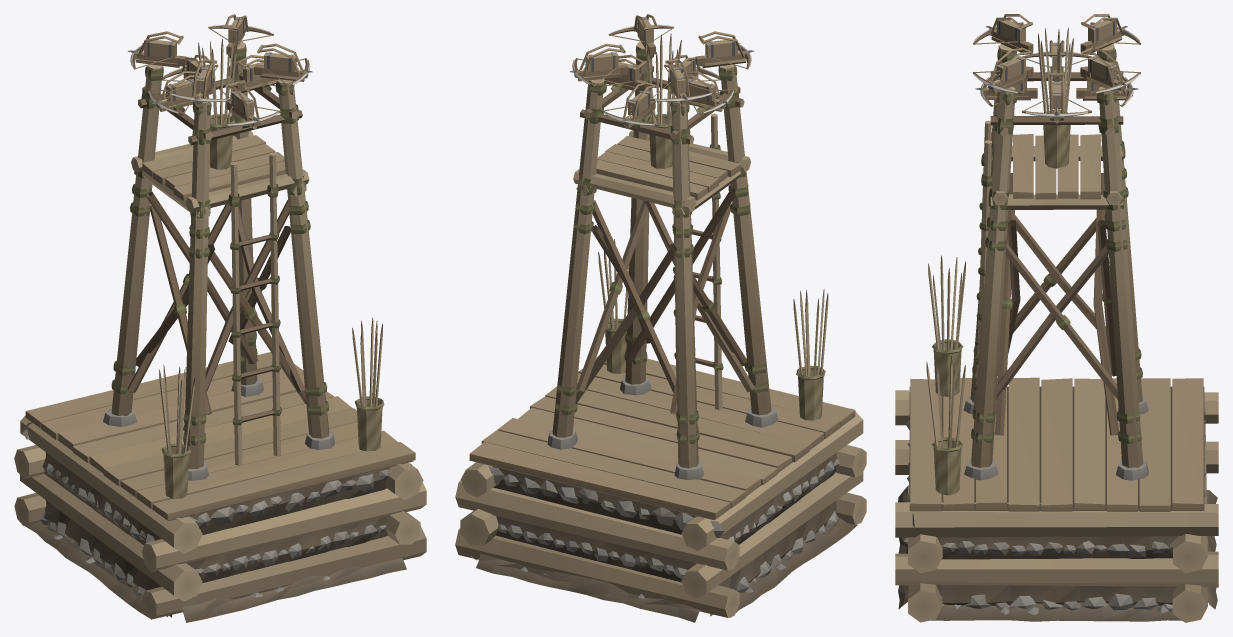
The model's file is bow_tower_repeater_a.glb.
3 renders of one model, left to right at view 1: azimuth 30°, elevation 25°; view 2: azimuth 150°, elevation 25°; view 3: azimuth 270°, elevation 25°, orthographic. The views are drawn at different scales.
Visible parts, largest first — view 1: Base, Store3, Store2, Quiver, Bow3, Bow7, Bow4, Bow6, Bow5, Bow1, Bow2; view 2: Base, Store2, Quiver, Store3, Bow1, Bow5, Bow0, Bow6, Bow7, Bow3, Bow2; view 3: Base, Store2, Store3, Quiver, Bow1, Bow3, Bow7, Bow5, Bow2, Bow6, Bow4, Bow0.
Boxes of the visible parts, x1=… form: Base: x1=14, y1=34, x2=426, y2=622; Store3: x1=352, y1=317, x2=384, y2=451; Store2: x1=159, y1=365, x2=194, y2=498; Quiver: x1=198, y1=37, x2=236, y2=169; Bow3: x1=254, y1=43, x2=310, y2=86; Bow7: x1=130, y1=31, x2=186, y2=69; Bow4: x1=222, y1=82, x2=281, y2=126; Bow6: x1=148, y1=71, x2=200, y2=115; Bow5: x1=167, y1=59, x2=232, y2=104; Bow1: x1=208, y1=14, x2=273, y2=54; Bow2: x1=234, y1=54, x2=278, y2=91; Base: x1=455, y1=34, x2=866, y2=622; Store2: x1=793, y1=289, x2=828, y2=420; Quiver: x1=645, y1=33, x2=681, y2=168; Store3: x1=598, y1=239, x2=629, y2=373; Bow1: x1=572, y1=43, x2=628, y2=86; Bow5: x1=695, y1=31, x2=751, y2=69; Bow0: x1=601, y1=82, x2=659, y2=126; Bow6: x1=676, y1=71, x2=733, y2=114; Bow7: x1=650, y1=59, x2=715, y2=104; Bow3: x1=608, y1=14, x2=673, y2=54; Bow2: x1=604, y1=54, x2=647, y2=91; Base: x1=895, y1=36, x2=1218, y2=622; Store2: x1=928, y1=255, x2=965, y2=396; Store3: x1=926, y1=356, x2=965, y2=495; Quiver: x1=1038, y1=27, x2=1073, y2=168; Bow1: x1=1080, y1=47, x2=1140, y2=94; Bow3: x1=973, y1=47, x2=1033, y2=94; Bow7: x1=1080, y1=14, x2=1140, y2=51; Bow5: x1=973, y1=14, x2=1033, y2=51; Bow2: x1=1022, y1=73, x2=1091, y2=120; Bow6: x1=1022, y1=40, x2=1091, y2=81; Bow4: x1=980, y1=66, x2=1037, y2=106; Bow0: x1=1076, y1=66, x2=1133, y2=106.
Bounding box in the file's own units: 1.95 × 3.48 × 1.95.
